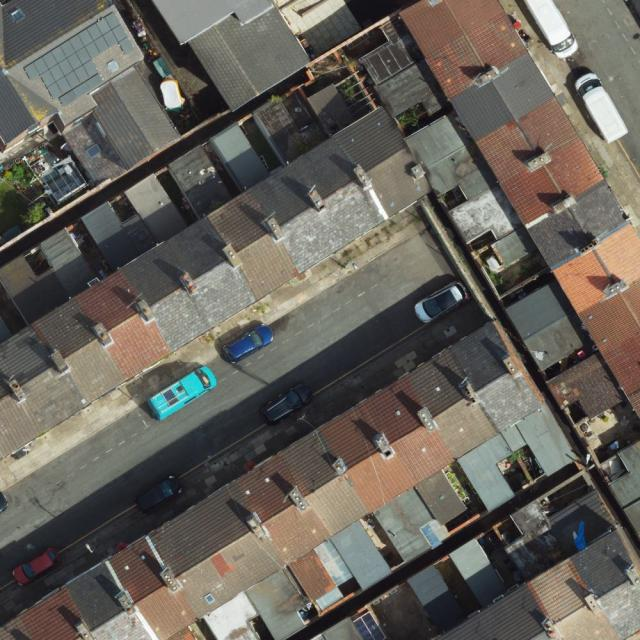roof: (0, 0, 640, 464), (0, 319, 577, 640), (0, 0, 181, 186), (448, 527, 640, 639), (151, 0, 314, 113)
skylight: (7, 5, 28, 24), (84, 142, 103, 161), (105, 56, 123, 75), (201, 591, 218, 607)
solar: (23, 11, 135, 106)
